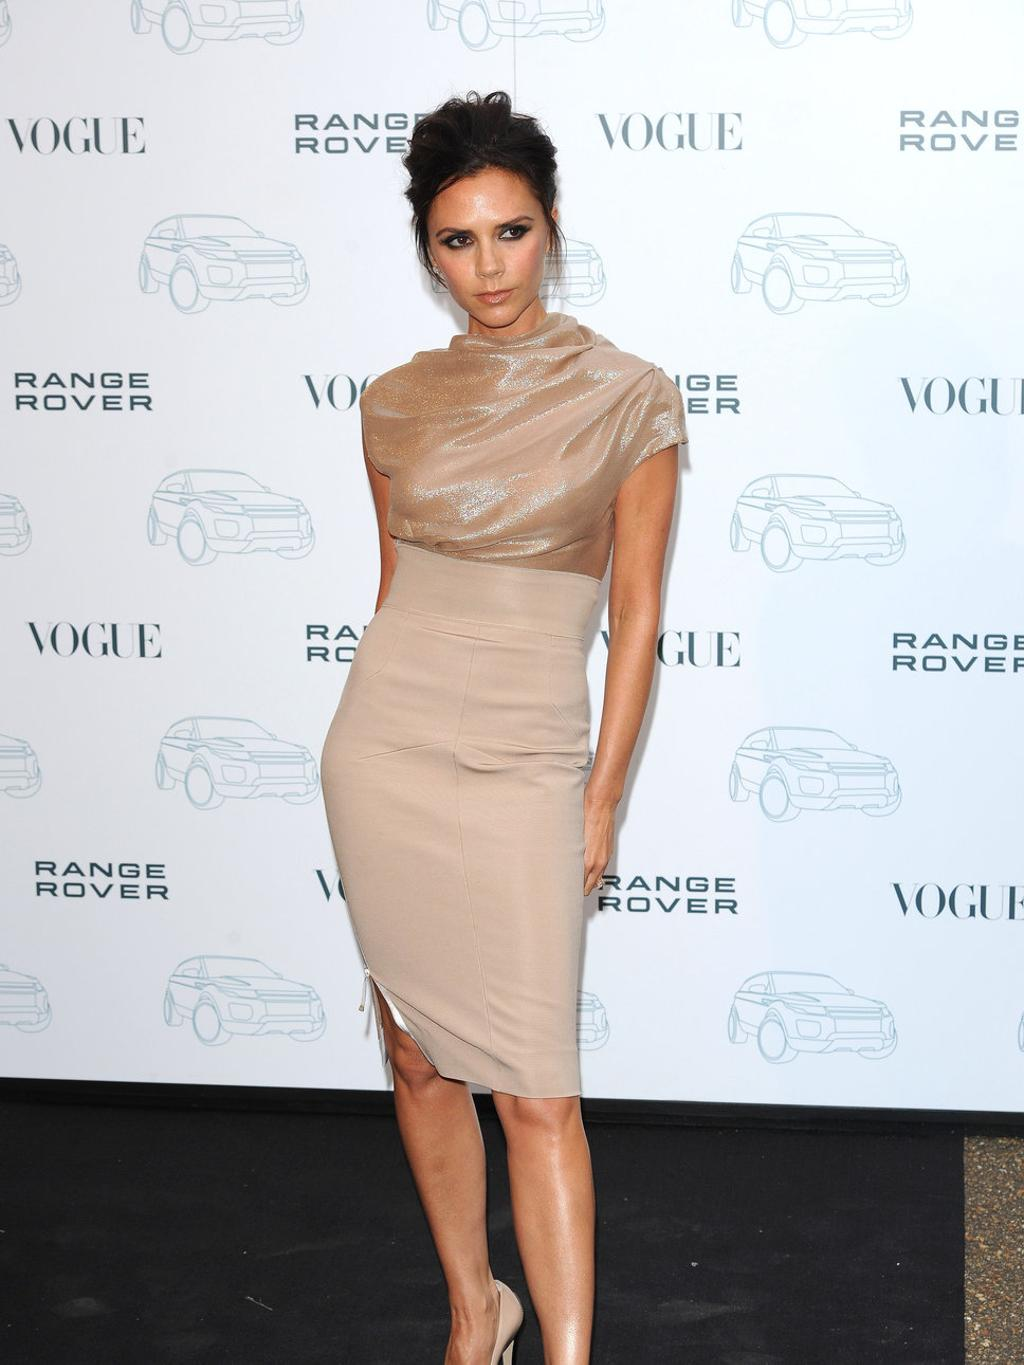face: (429, 168, 544, 328)
